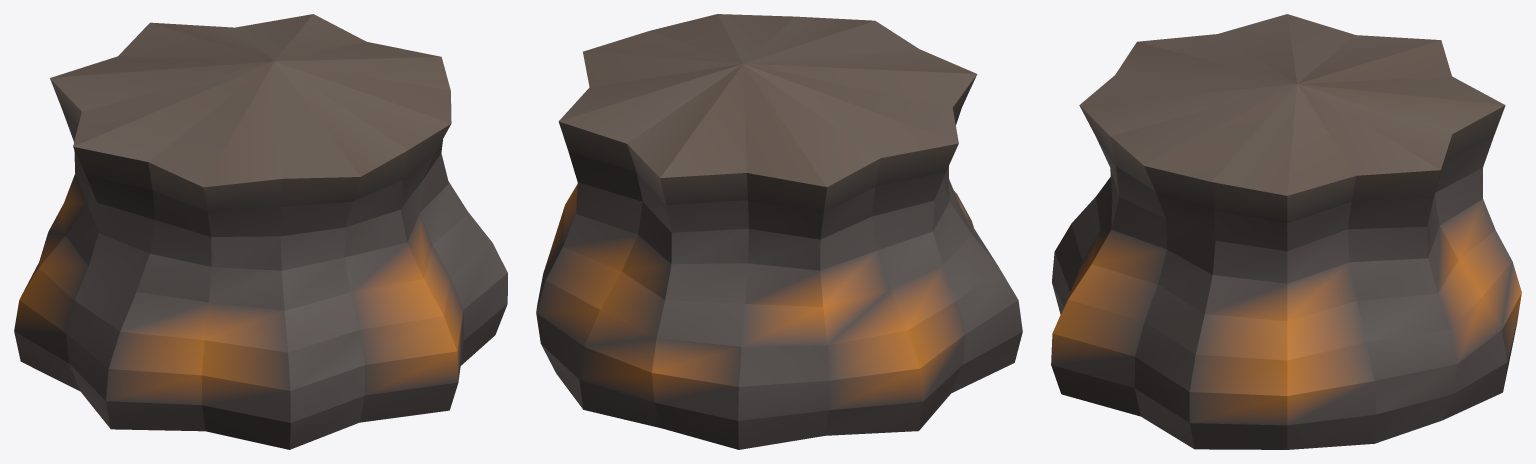
File: Ash_Stump.glb
3 renders of one model, left to right at view 1: azimuth 30°, elevation 25°; view 2: azimuth 150°, elevation 25°; view 3: azimuth 270°, elevation 25°, orthographic. The views are drawn at different scales.
Parts seen in each view (by area): view 1: AshStump; view 2: AshStump; view 3: AshStump.
Boxes of the visible parts, x1,y1,x2,y2 form: AshStump: (14, 14, 507, 449); AshStump: (536, 14, 1022, 449); AshStump: (1051, 14, 1521, 449).
Bounding box in the file's own units: 0.9562 × 0.64 × 0.9405.
